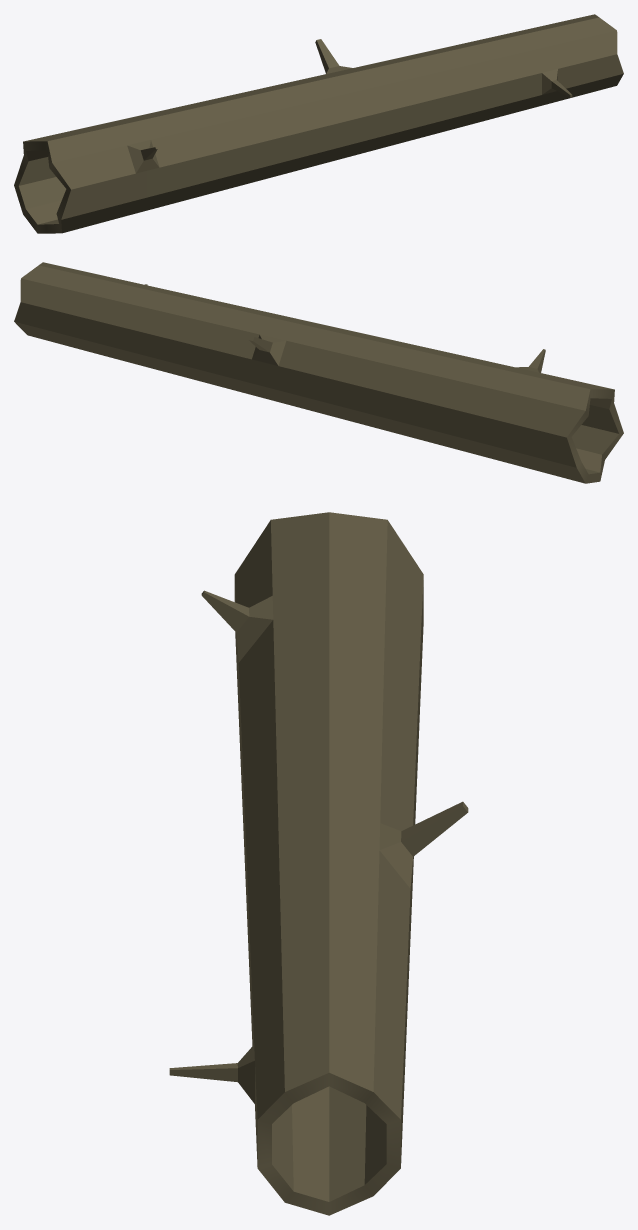
File: FallenTree.fbx
The picture shows the model from 3 angles, top to bottom: view 1: azimuth 30°, elevation 25°; view 2: azimuth 150°, elevation 25°; view 3: azimuth 270°, elevation 25°; orthographic projection. The views are drawn at different scales.
Visible parts, largest first — view 1: pPipe1; view 2: pPipe1; view 3: pPipe1.
Part boxes in pixels (left/top/right/bottom): pPipe1: left=14, top=14, right=623, bottom=233; pPipe1: left=14, top=262, right=623, bottom=483; pPipe1: left=169, top=512, right=468, bottom=1215.
Bounding box in the file's own units: 21.61 × 3.38 × 4.92.
